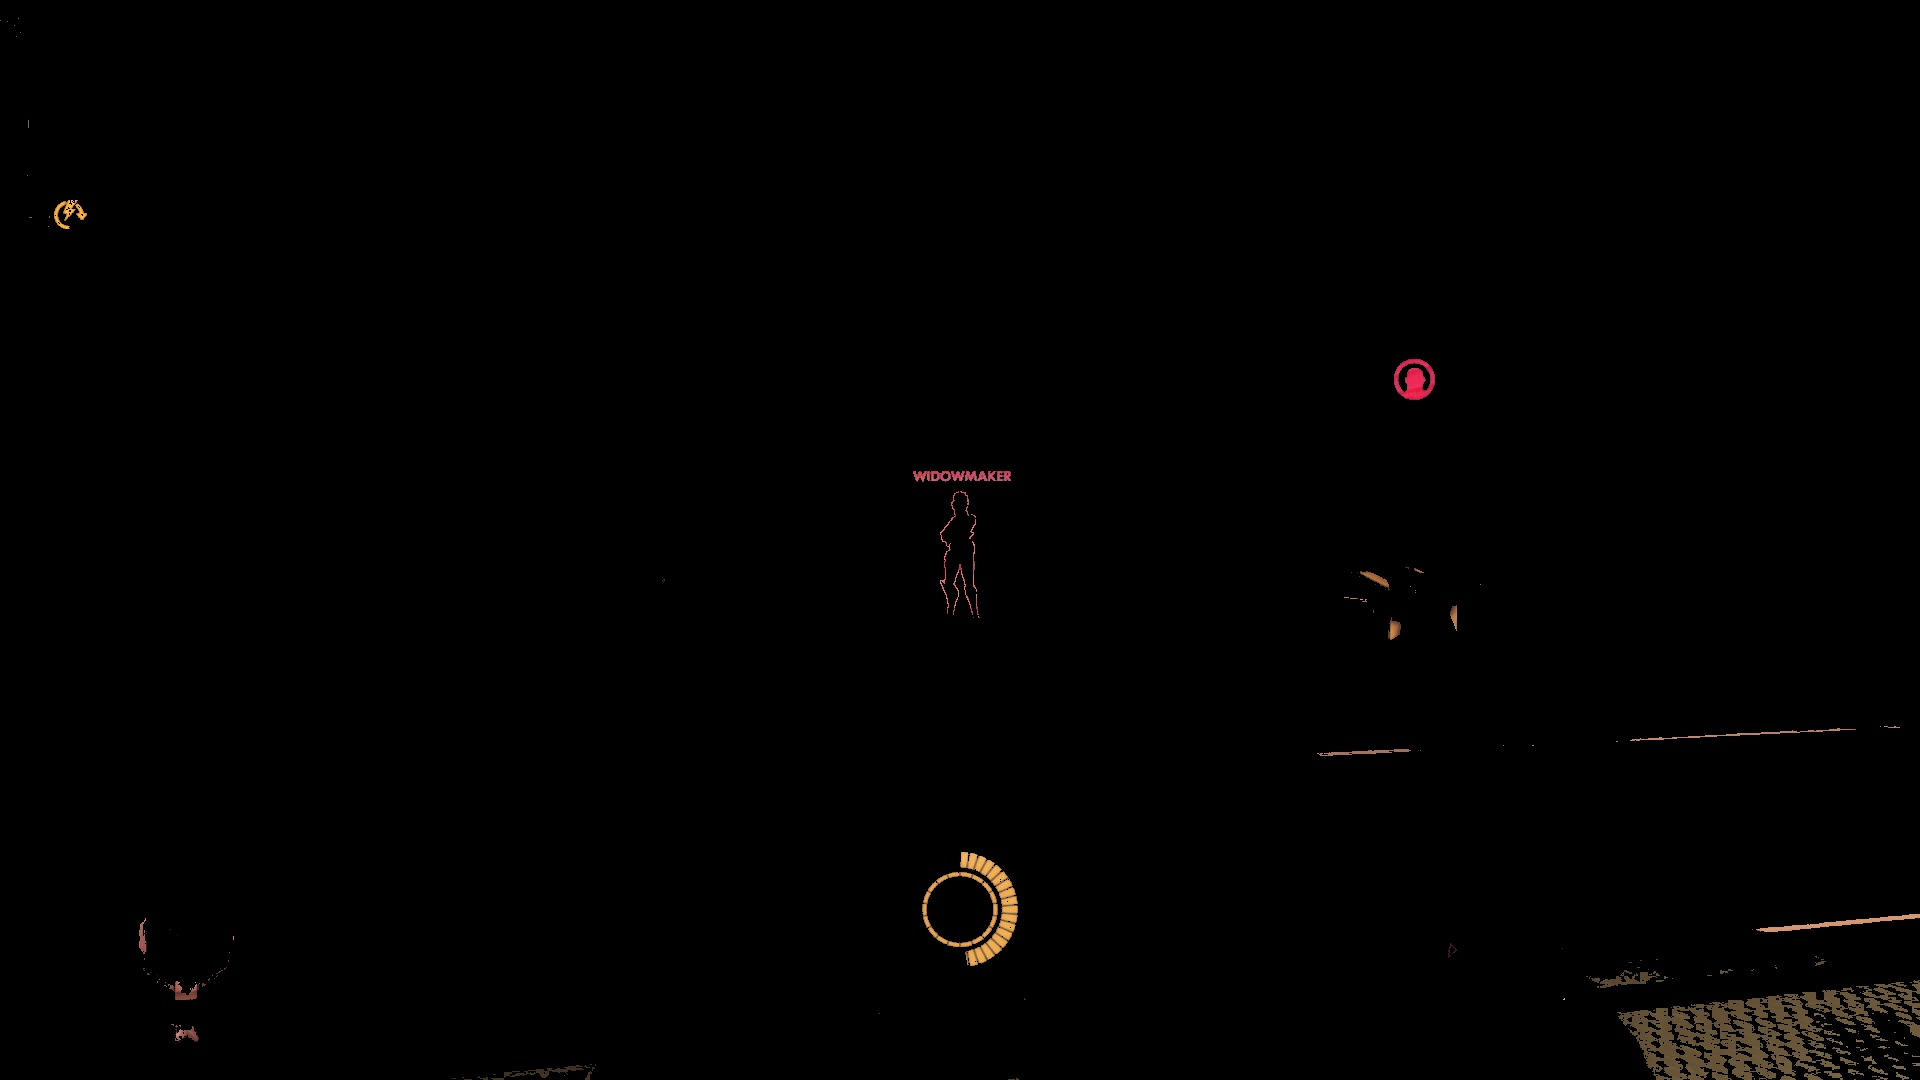widowmaker: (939, 489, 984, 630)
